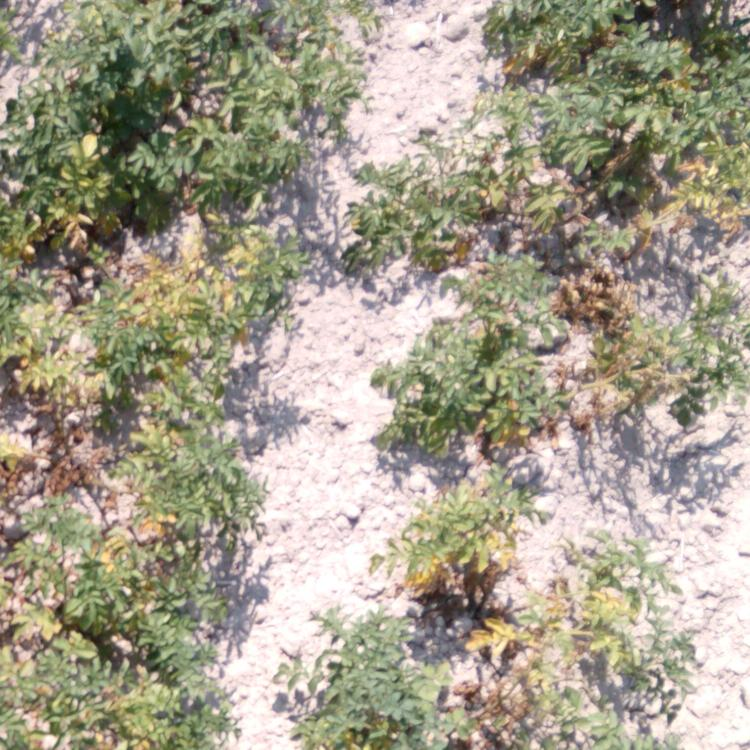healthy: (138, 1, 355, 200), (309, 615, 433, 750), (16, 1, 136, 119), (384, 314, 481, 453)
stressed: (505, 4, 734, 240), (1, 414, 254, 573), (1, 571, 223, 750), (1, 125, 132, 412), (436, 606, 685, 750), (140, 202, 283, 416), (506, 252, 661, 424), (352, 152, 507, 309), (391, 470, 533, 599), (482, 311, 561, 467), (678, 280, 749, 419), (556, 537, 664, 603)
